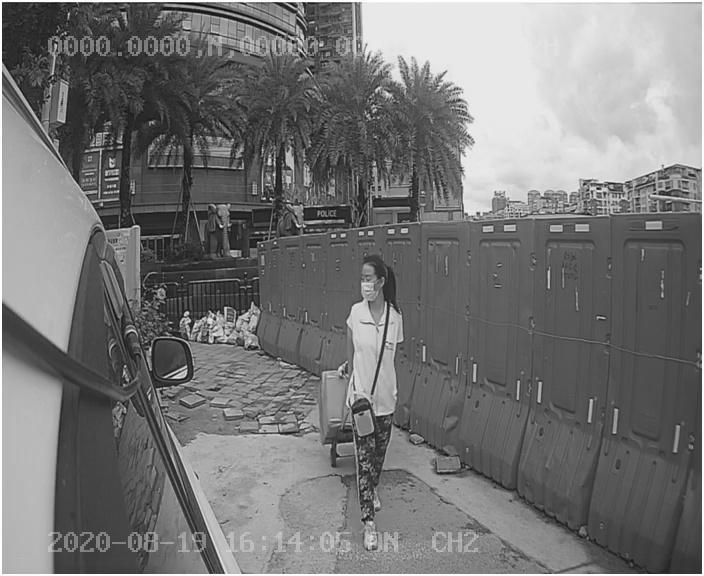person: (327, 251, 421, 521)
